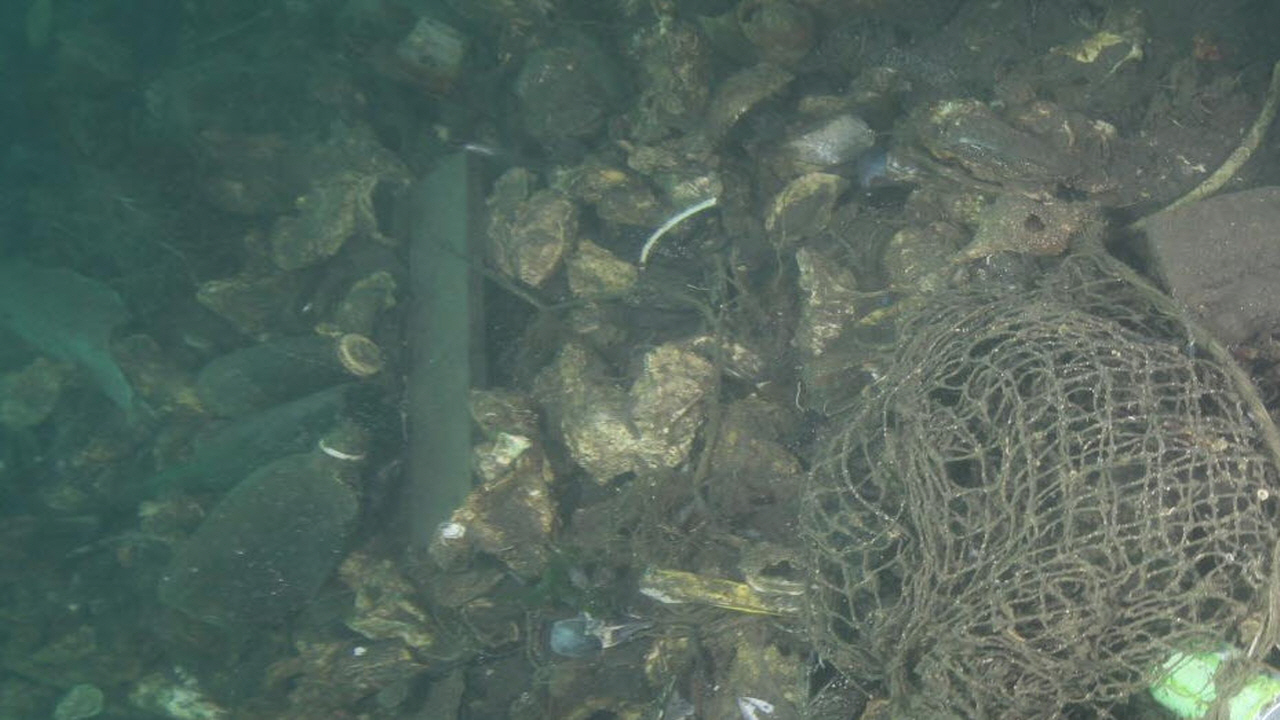fish net: (795, 251, 1280, 720)
